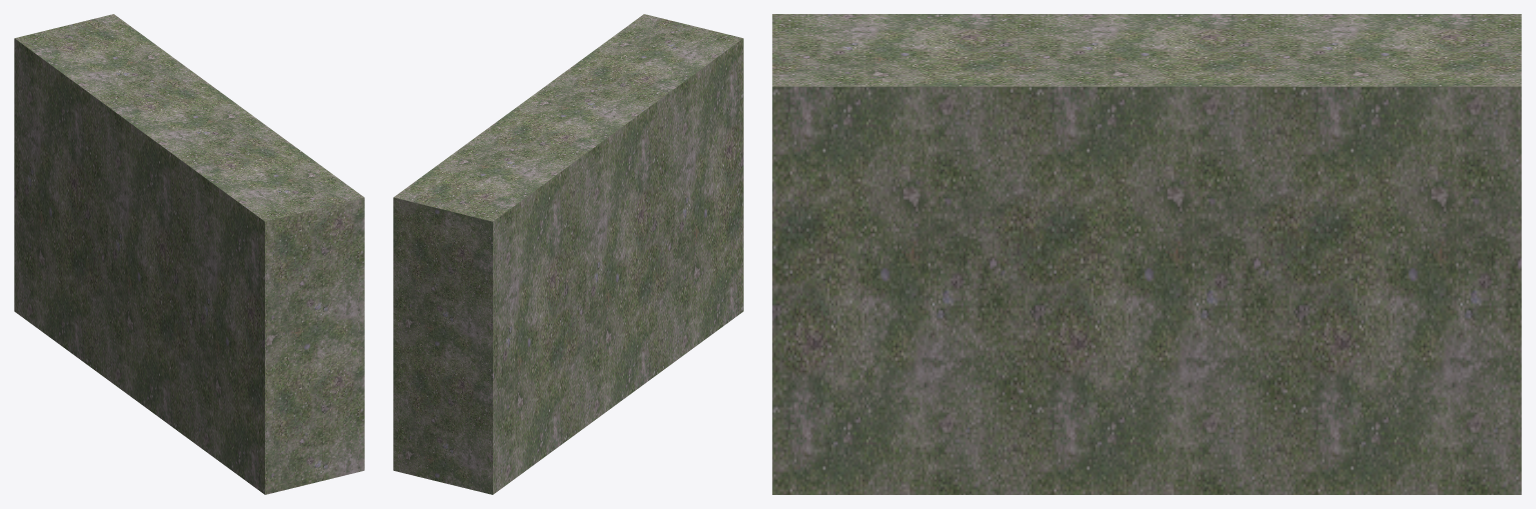
File: GrassLevel.fbx
3 renders of one model, left to right at view 1: azimuth 30°, elevation 25°; view 2: azimuth 150°, elevation 25°; view 3: azimuth 270°, elevation 25°, orthographic. The views are drawn at different scales.
Visible parts, largest first — view 1: Grass; view 2: Grass; view 3: Grass.
Part boxes in pixels (x1,y1,x2,y2): Grass: [14, 14, 364, 494]; Grass: [393, 14, 743, 494]; Grass: [772, 14, 1521, 494].
Bounding box in the file's own units: 6 × 15.76 × 26.2.
